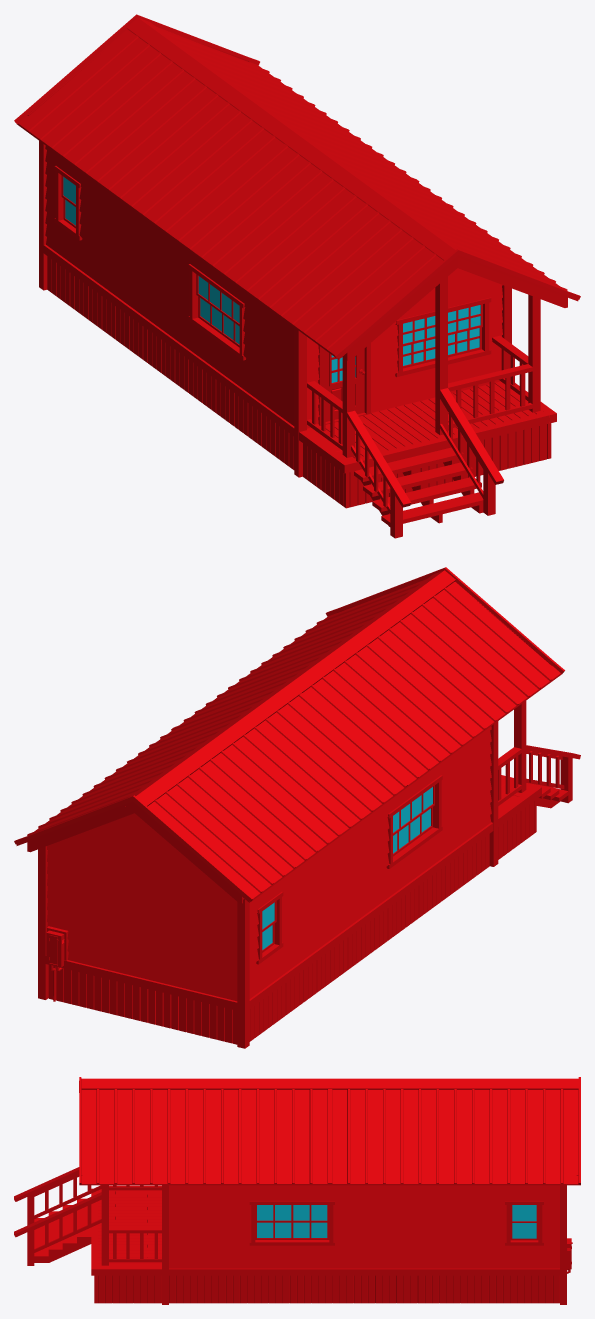
File: cabin-big-summer-camp.fbx
3 renders of one model, top to bottom at view 1: azimuth 30°, elevation 25°; view 2: azimuth 150°, elevation 25°; view 3: azimuth 270°, elevation 25°, orthographic. The views are drawn at different scales.
Parts seen in each view (by area): view 1: cabin-big-base-summer-camp, cabin-big-door-main-summer-camp, cabin-big-window-big-l-summer-camp, cabin-big-window-front-r-summer-camp, cabin-big-window-front-l-summer-camp; view 2: cabin-big-base-summer-camp, cabin-big-window-big-l-summer-camp; view 3: cabin-big-base-summer-camp, cabin-big-window-big-r-summer-camp, cabin-big-window-small-r-summer-camp.
Part boxes in pixels (left/top/right/bottom): cabin-big-base-summer-camp: left=14, top=14, right=580, bottom=538; cabin-big-door-main-summer-camp: left=324, top=348, right=364, bottom=421; cabin-big-window-big-l-summer-camp: left=198, top=296, right=239, bottom=347; cabin-big-window-front-r-summer-camp: left=448, top=327, right=481, bottom=357; cabin-big-window-front-l-summer-camp: left=403, top=339, right=435, bottom=368; cabin-big-base-summer-camp: left=14, top=567, right=580, bottom=1048; cabin-big-window-big-l-summer-camp: left=393, top=807, right=432, bottom=856; cabin-big-base-summer-camp: left=14, top=1077, right=580, bottom=1304; cabin-big-window-big-r-summer-camp: left=255, top=1222, right=329, bottom=1239; cabin-big-window-small-r-summer-camp: left=510, top=1223, right=538, bottom=1240.
Size of the model in its own units: 6.2 by 5.81 by 15.95.
